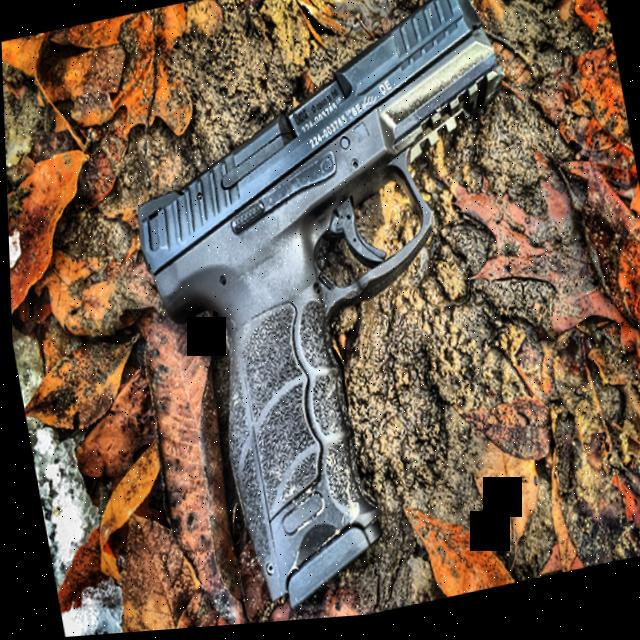HKVP9: (100, 0, 590, 634)
